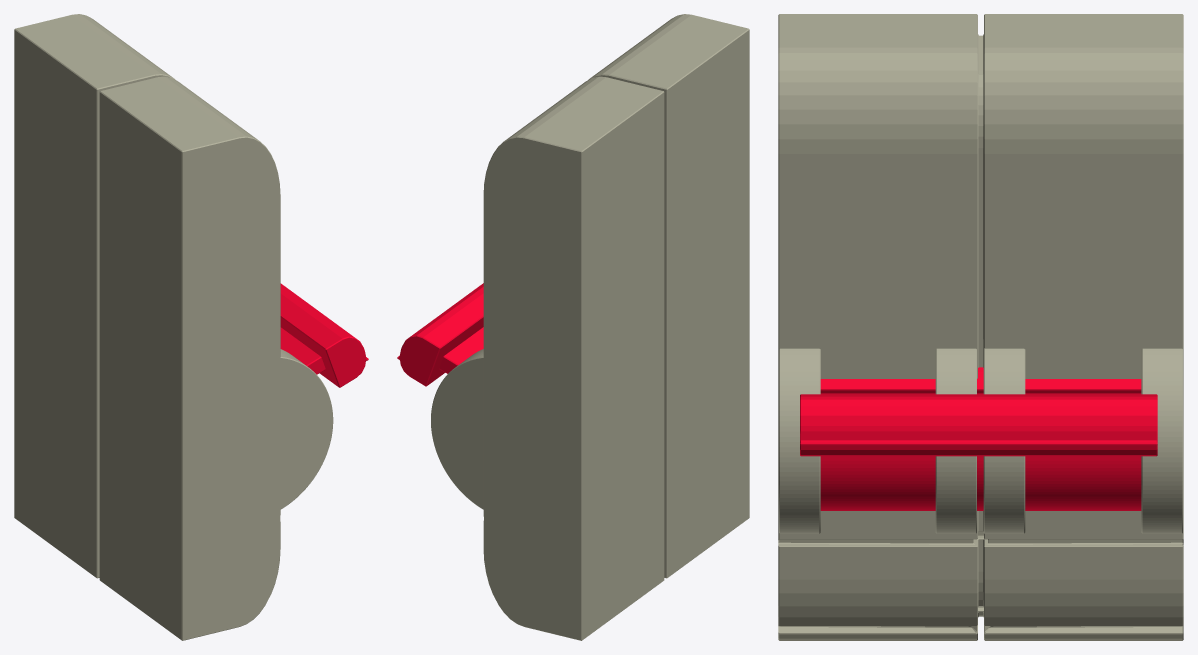
The picture shows the model from 3 angles, left to right: view 1: azimuth 30°, elevation 25°; view 2: azimuth 150°, elevation 25°; view 3: azimuth 270°, elevation 25°; orthographic projection. The views are drawn at different scales.
Parts seen in each view (by area): view 1: 柱体.003, 立方体.001; view 2: 柱体.003, 立方体.001; view 3: 柱体.003, 立方体.001.
Boxes of the visible parts, <box> form: 柱体.003: <box>14,14,333,640</box>; 立方体.001: <box>280,283,368,387</box>; 柱体.003: <box>431,14,749,640</box>; 立方体.001: <box>397,283,483,386</box>; 柱体.003: <box>778,14,1183,640</box>; 立方体.001: <box>800,367,1157,510</box>.
Size of the model in its own units: 134 by 321 by 200.
